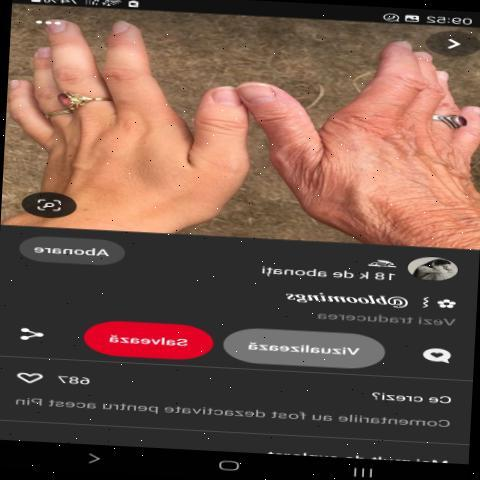Hands: (0, 16, 251, 228), (243, 40, 480, 226)
